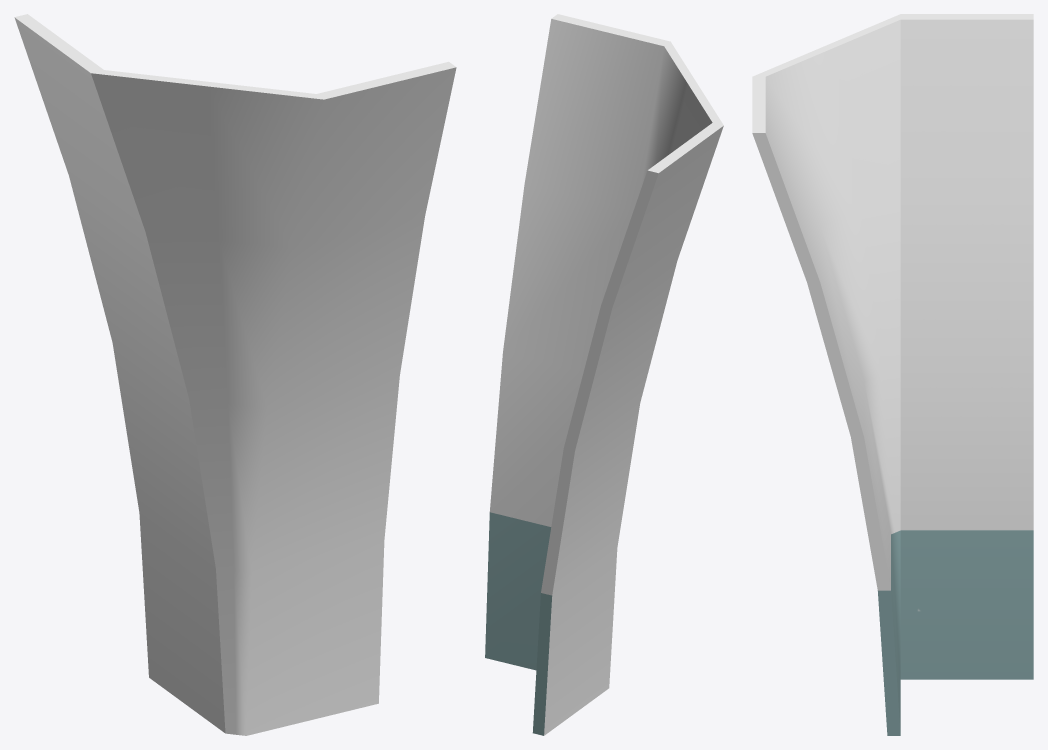
Rendered from wall_corner.fbx.
3 renders of one model, left to right at view 1: azimuth 30°, elevation 25°; view 2: azimuth 150°, elevation 25°; view 3: azimuth 270°, elevation 25°, orthographic. The views are drawn at different scales.
Visible parts, largest first — view 1: pCube3; view 2: pCube3; view 3: pCube3.
Part boxes in pixels (bbox=[...]): pCube3: bbox=[14, 14, 456, 735]; pCube3: bbox=[485, 14, 723, 735]; pCube3: bbox=[752, 14, 1033, 735].
Bounding box in the file's own units: 212 × 500 × 212.
